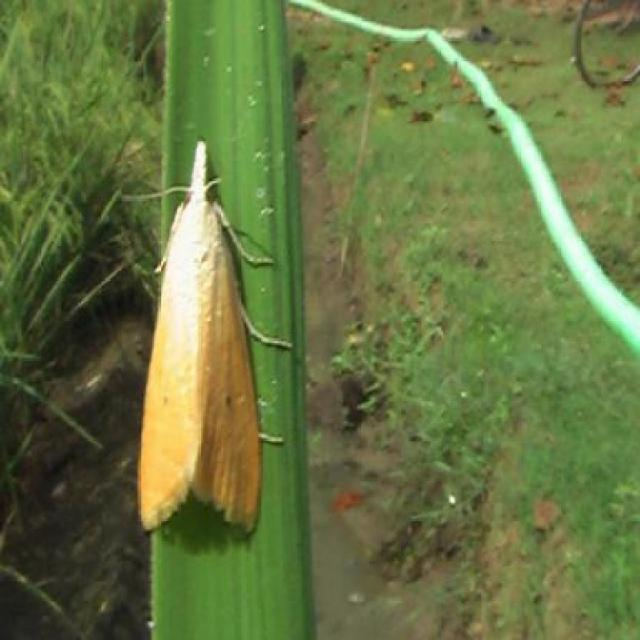stem-borer: (134, 132, 299, 541)
